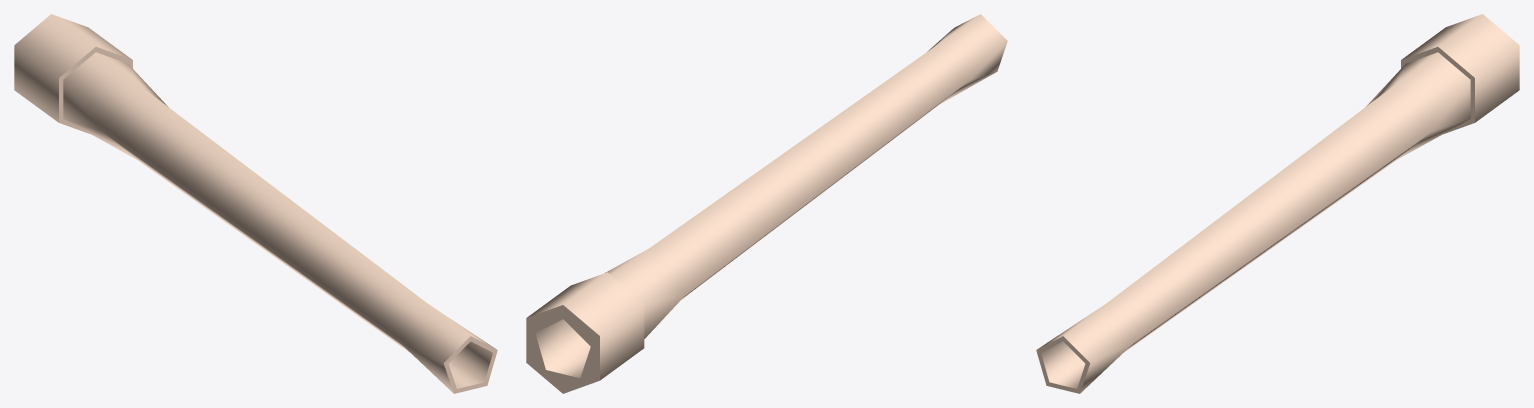
The model's file is Pont Echappement - Cone.obj.
3 views of the same model, side by side, from view 1: azimuth 30°, elevation 25°; view 2: azimuth 150°, elevation 25°; view 3: azimuth 330°, elevation 25° (orthographic).
Parts seen in each view (by area): view 1: Face_4, Face_2, Face_6, Face_3, Face_5; view 2: Face_4, Face_2, Face_1, Face_7; view 3: Face_4, Face_2, Face_6, Face_3, Face_5.
Boxes of the visible parts, left/top/right/bottom form: Face_4: left=63, top=52, right=496, bottom=393; Face_2: left=14, top=14, right=132, bottom=122; Face_6: left=450, top=341, right=492, bottom=388; Face_3: left=59, top=47, right=132, bottom=133; Face_5: left=443, top=336, right=497, bottom=393; Face_4: left=604, top=14, right=1007, bottom=338; Face_2: left=527, top=272, right=644, bottom=380; Face_1: left=526, top=305, right=599, bottom=393; Face_7: left=535, top=319, right=590, bottom=377; Face_4: left=1037, top=52, right=1470, bottom=393; Face_2: left=1401, top=14, right=1519, bottom=122; Face_6: left=1041, top=341, right=1083, bottom=388; Face_3: left=1401, top=47, right=1474, bottom=133; Face_5: left=1036, top=336, right=1090, bottom=393.
Bounding box in the file's own units: 0.00632 × 0.0073 × 0.062.
